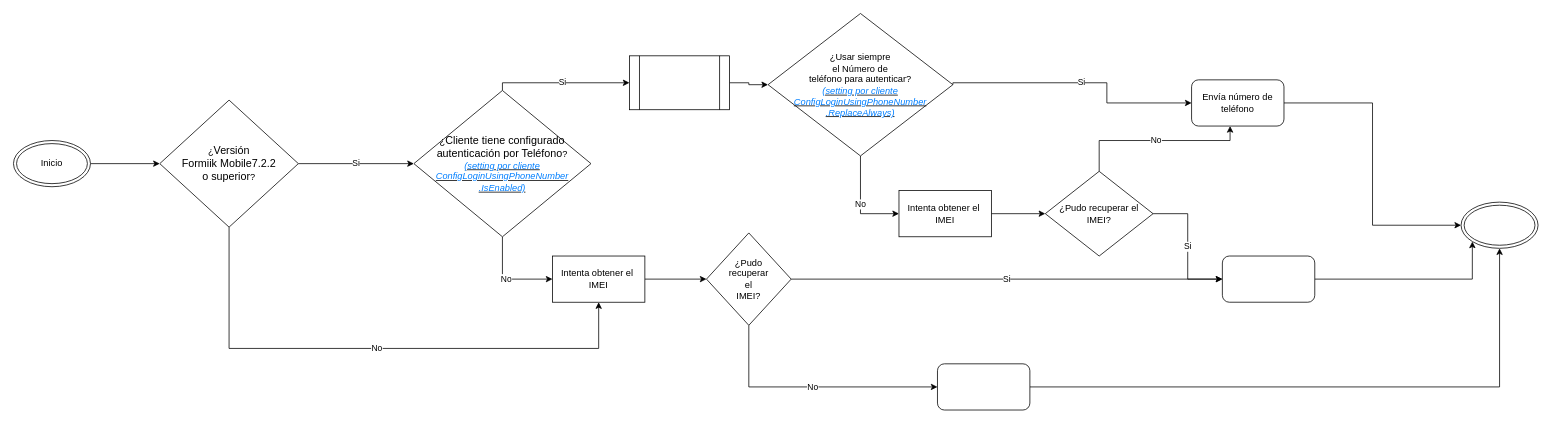
This 1552x424 diagram has some shape labels left out. The centre of each missing label's shape, as x and y in pixels:
Corre el flujo para recuperar el número de teléfono: (x=679, y=82)
Envía IMEI: (x=1268, y=278)
Envía string vacío: (x=983, y=386)
Fin: (x=1499, y=224)
